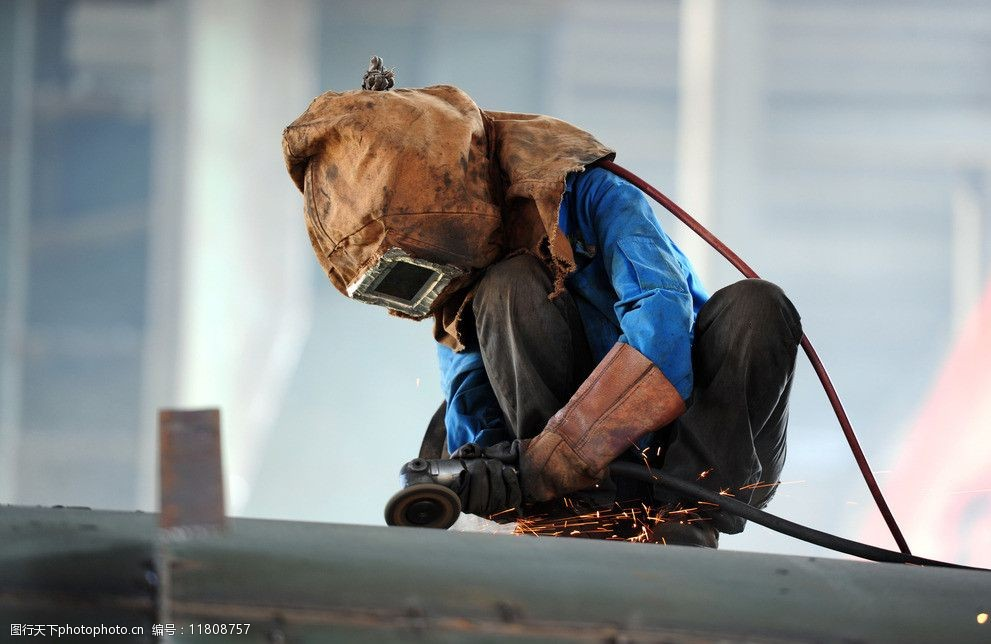safetyhat: (281, 63, 793, 574)
